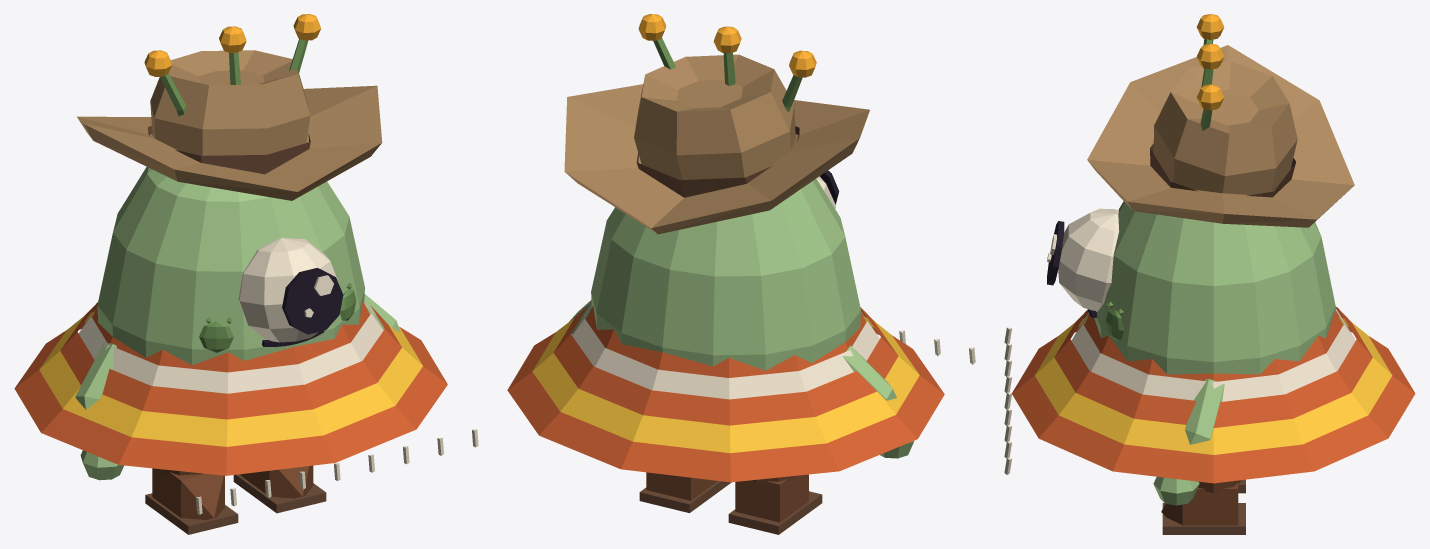
File: Char_Native_Poncho.obj
3 views of the same model, side by side, from view 1: azimuth 30°, elevation 25°; view 2: azimuth 150°, elevation 25°; view 3: azimuth 270°, elevation 25° (orthographic). The views are drawn at different scales.
Visible parts, largest first — view 1: Char_Native_Poncho_Body, Char_Native_Poncho_Head, Char_Native_Poncho_Leg_R, Char_Native_Poncho_Leg_L, Char_Native_Poncho_Arm_R; view 2: Char_Native_Poncho_Body, Char_Native_Poncho_Leg_R, Char_Native_Poncho_Head, Char_Native_Poncho_Leg_L, Char_Native_Poncho_Arm_R; view 3: Char_Native_Poncho_Body, Char_Native_Poncho_Head, Char_Native_Poncho_Leg_L, Char_Native_Poncho_Arm_L.
Part boxes in pixels (x1,y1,x2,y2): Char_Native_Poncho_Body: [14, 50, 478, 514]; Char_Native_Poncho_Head: [144, 14, 356, 352]; Char_Native_Poncho_Leg_R: [145, 468, 238, 534]; Char_Native_Poncho_Leg_L: [233, 465, 326, 513]; Char_Native_Poncho_Arm_R: [75, 342, 123, 480]; Char_Native_Poncho_Body: [507, 54, 975, 482]; Char_Native_Poncho_Leg_R: [728, 474, 822, 534]; Char_Native_Poncho_Head: [638, 14, 839, 208]; Char_Native_Poncho_Leg_L: [639, 472, 731, 512]; Char_Native_Poncho_Arm_R: [843, 345, 914, 458]; Char_Native_Poncho_Body: [1004, 45, 1415, 483]; Char_Native_Poncho_Head: [1047, 14, 1224, 340]; Char_Native_Poncho_Leg_L: [1161, 480, 1245, 534]; Char_Native_Poncho_Arm_L: [1153, 379, 1224, 505].
Size of the model in its own units: 1.38 by 1.64 by 1.33.
